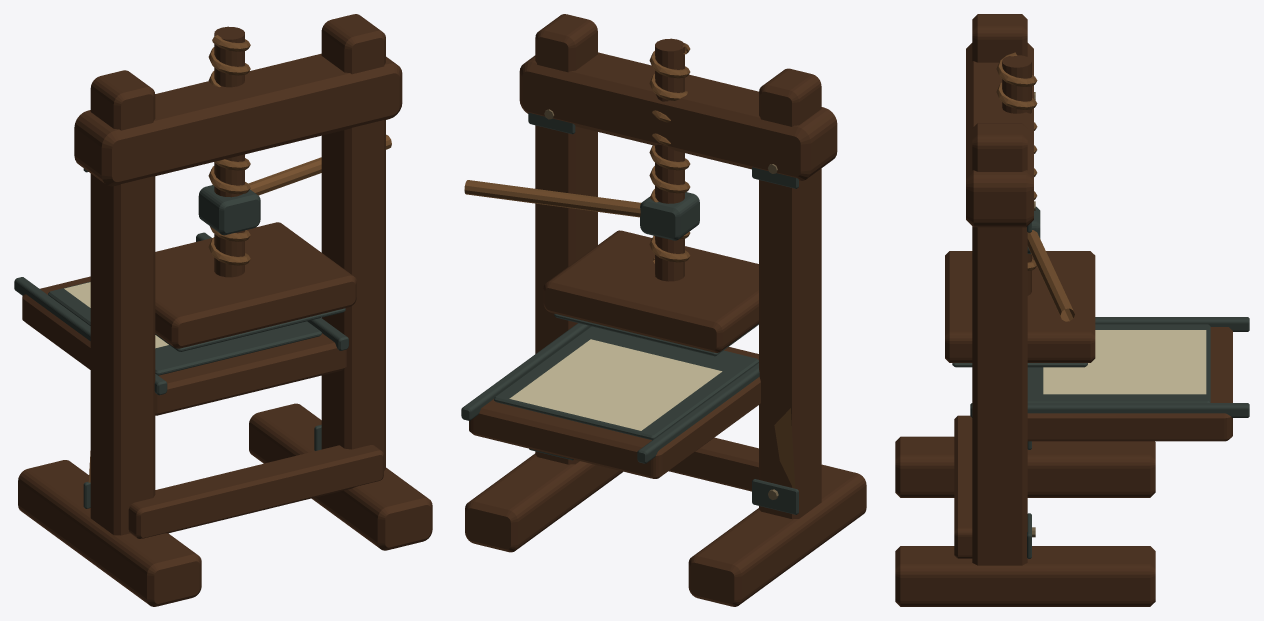
The model's file is exhibit_printing_press.obj.
The picture shows the model from 3 angles, left to right: view 1: azimuth 30°, elevation 25°; view 2: azimuth 150°, elevation 25°; view 3: azimuth 270°, elevation 25°; orthographic projection. The views are drawn at different scales.
Visible parts, largest first — view 1: uprights, top_crossbeam, feet, platen, bottom_tie, carriage_bed, type_bed, screw_core, screw_thread, screw_collar, carriage_rails, press_lever (+1 smaller); view 2: uprights, top_crossbeam, feet, platen, unprinted_sheet, carriage_bed, type_bed, carriage_rails, screw_core, bottom_tie, press_lever, screw_thread (+4 smaller); view 3: feet, uprights, platen, unprinted_sheet, carriage_bed, top_crossbeam, carriage_rails, type_bed, bottom_tie, press_lever, screw_core, screw_thread.
Part boxes in pixels (x1=…): uprights: x1=90, y1=14, x2=385, y2=535; top_crossbeam: x1=74, y1=53, x2=402, y2=186; feet: x1=18, y1=403, x2=432, y2=606; platen: x1=155, y1=222, x2=356, y2=348; bottom_tie: x1=128, y1=445, x2=383, y2=538; carriage_bed: x1=22, y1=276, x2=346, y2=415; type_bed: x1=48, y1=281, x2=321, y2=375; screw_core: x1=214, y1=26, x2=244, y2=277; screw_thread: x1=208, y1=35, x2=250, y2=265; screw_collar: x1=198, y1=185, x2=260, y2=235; carriage_rails: x1=14, y1=232, x2=348, y2=395; press_lever: x1=248, y1=134, x2=391, y2=195; uprights: x1=535, y1=14, x2=821, y2=519; top_crossbeam: x1=519, y1=52, x2=837, y2=180; feet: x1=465, y1=453, x2=866, y2=606; platen: x1=543, y1=230, x2=758, y2=352; unprinted_sheet: x1=509, y1=339, x2=722, y2=430; carriage_bed: x1=469, y1=347, x2=760, y2=478; type_bed: x1=494, y1=326, x2=758, y2=440; carriage_rails: x1=461, y1=323, x2=759, y2=463; screw_core: x1=655, y1=38, x2=684, y2=281; bottom_tie: x1=668, y1=437, x2=758, y2=491; press_lever: x1=464, y1=180, x2=640, y2=217; screw_thread: x1=649, y1=43, x2=690, y2=263; feet: x1=895, y1=436, x2=1155, y2=606; uprights: x1=972, y1=14, x2=1027, y2=565; platen: x1=945, y1=251, x2=1095, y2=362; unprinted_sheet: x1=1043, y1=330, x2=1206, y2=394; carriage_bed: x1=1027, y1=327, x2=1232, y2=441; top_crossbeam: x1=966, y1=43, x2=1033, y2=227; carriage_rails: x1=970, y1=317, x2=1249, y2=417; type_bed: x1=1027, y1=324, x2=1210, y2=402; bottom_tie: x1=954, y1=415, x2=972, y2=558; press_lever: x1=1027, y1=230, x2=1074, y2=321; screw_core: x1=1002, y1=55, x2=1031, y2=295; screw_thread: x1=996, y1=52, x2=1037, y2=270.
Size of the model in its own units: 1.77 by 2.52 by 1.67.
